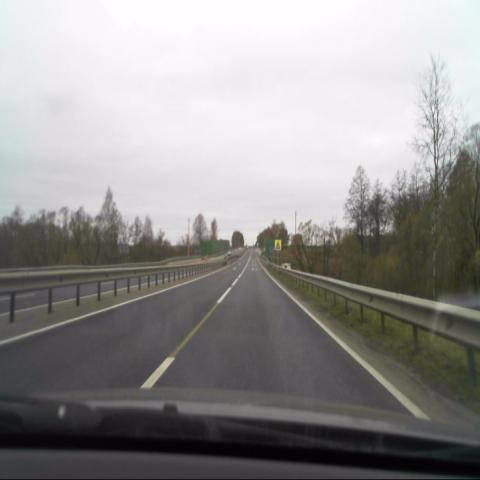1_22: (274, 238, 281, 250)
